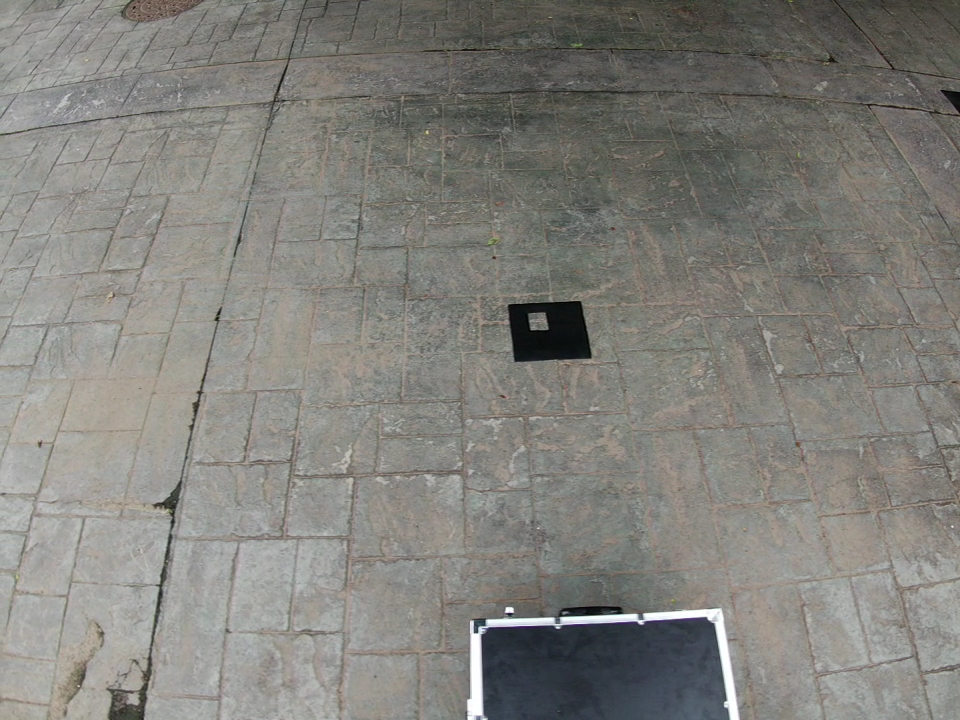box: (470, 608, 741, 720)
qrcode: (508, 301, 591, 361)
